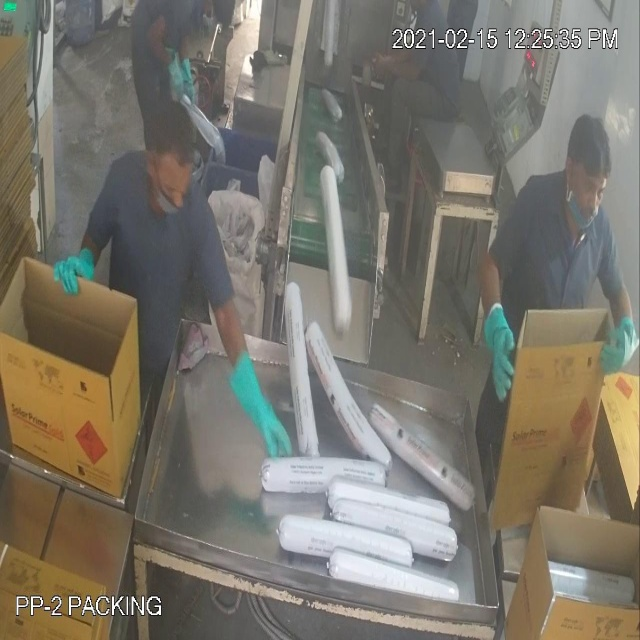Guantes: (221, 341, 300, 473), (473, 303, 528, 415), (48, 250, 105, 303), (590, 315, 640, 372)
Sin_guantes: (366, 44, 427, 92)
